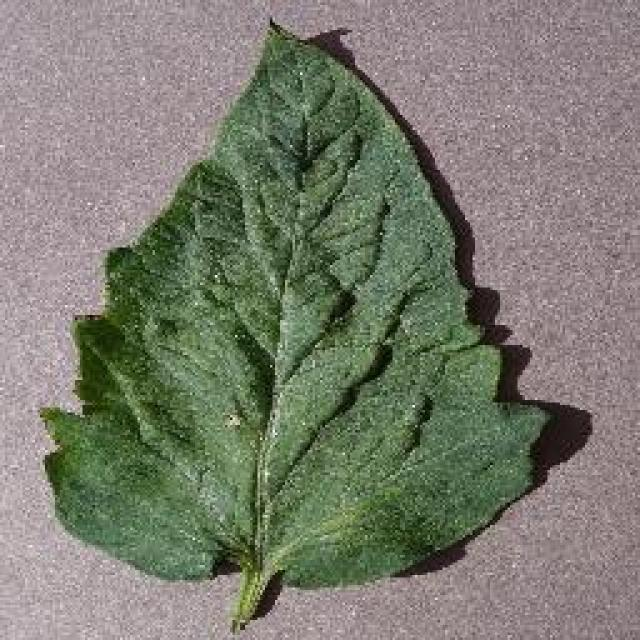Tomato___Target_Spot: (42, 22, 548, 628)
